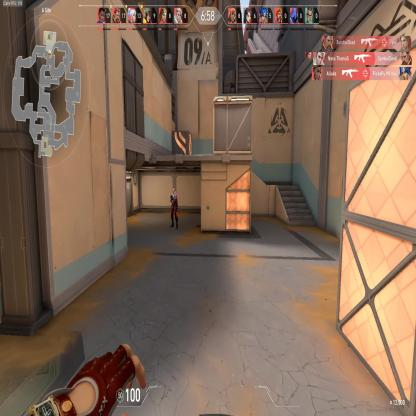enemy: (169, 187, 179, 230)
